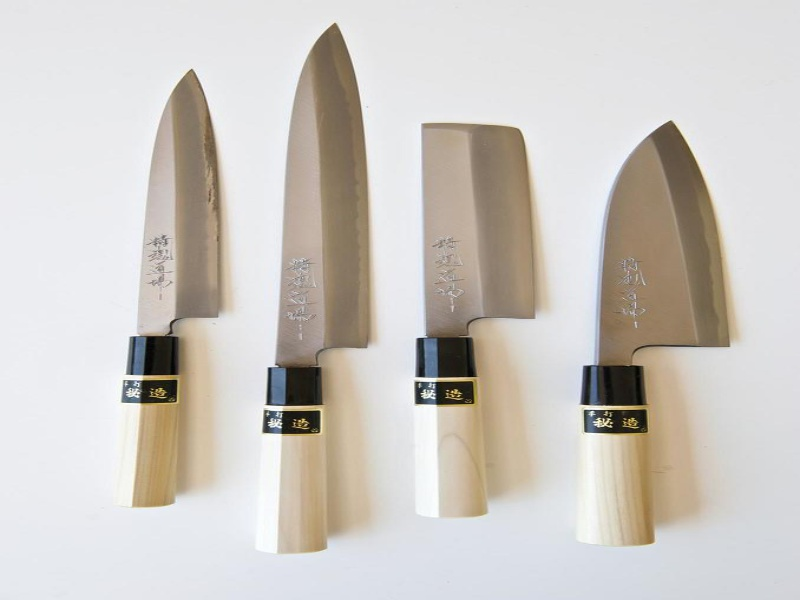knife: (573, 116, 737, 556), (251, 22, 375, 556), (413, 114, 542, 519), (119, 65, 225, 510)
